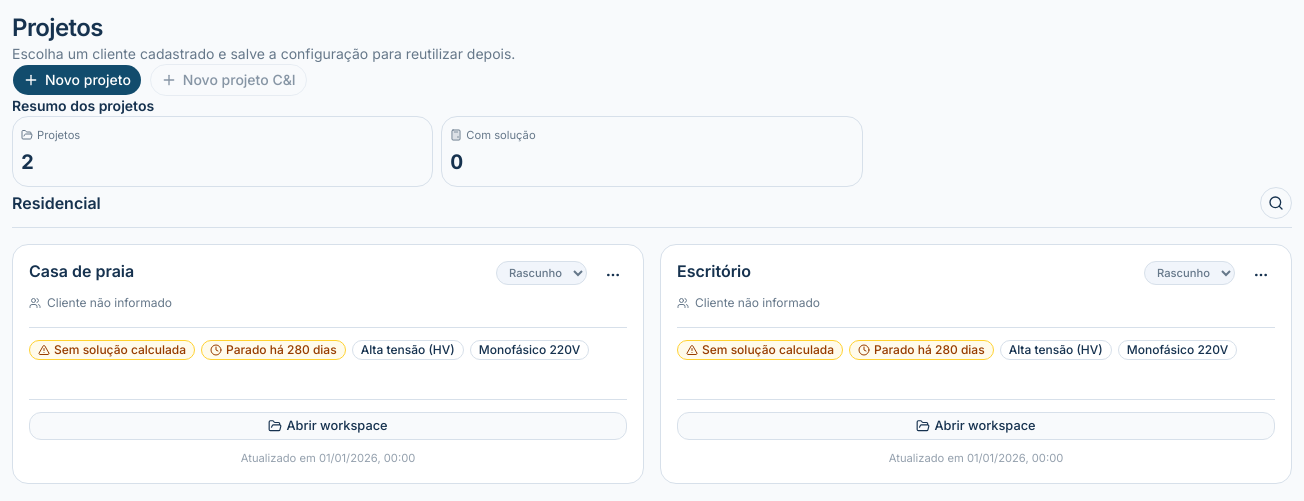
Test case: ProjectTab: empty and list states › filters the saved-project list by search
Click the button named "Pesquisar projeto...". click: (1276, 203)
box: [1260, 187, 1292, 219]
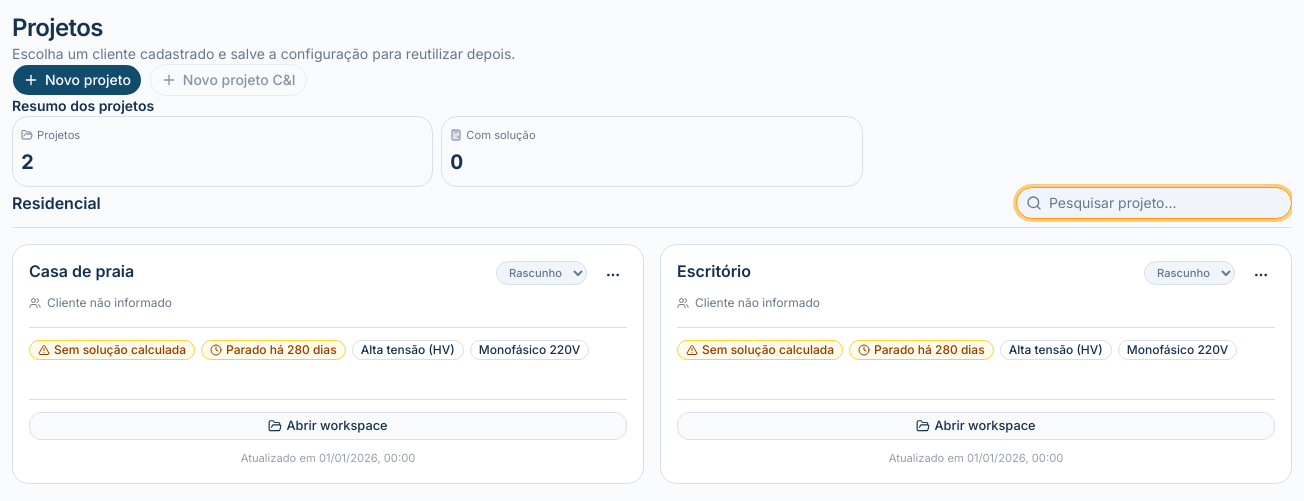
Type "praia" into the field with placeholder "Pesquisar projeto...". click: (1154, 203)
box: [1016, 187, 1292, 219]
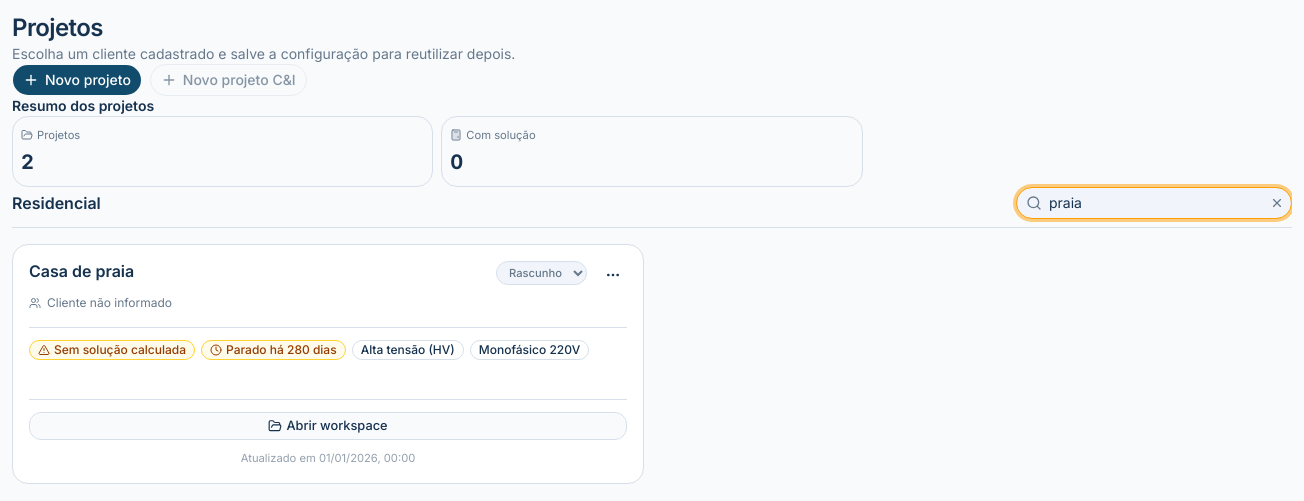
Expected: the text "Casa de praia" is shown, [29, 261, 134, 281]
Result: the button "Escritório" is gone
